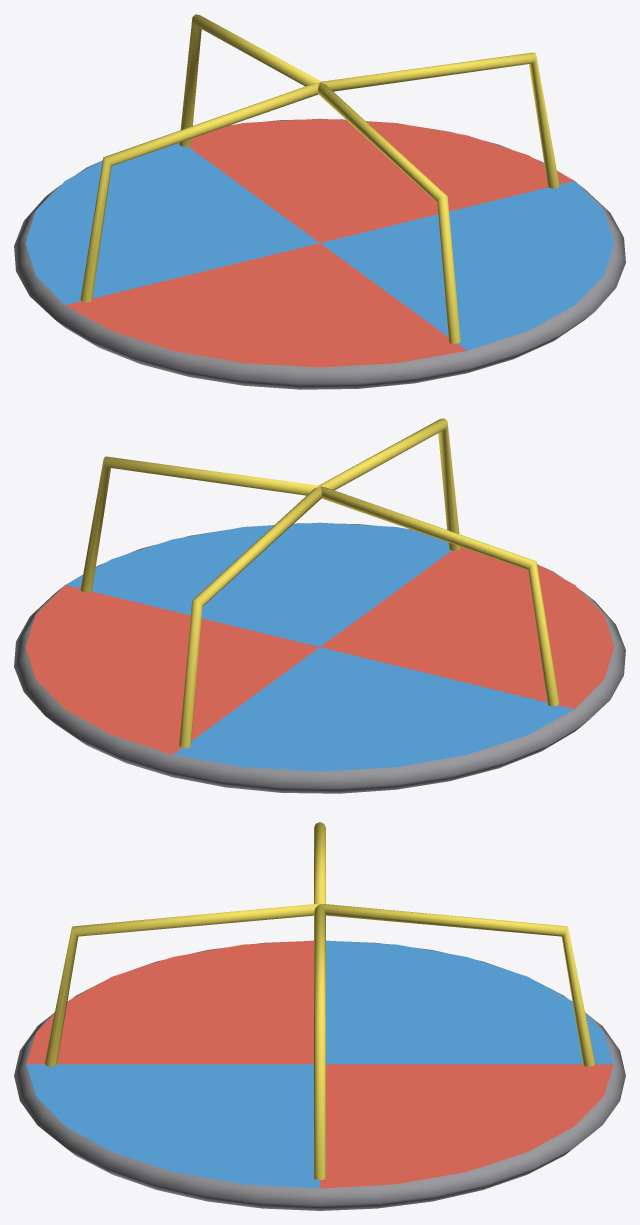
File: roundabout.glb
3 renders of one model, top to bottom at view 1: azimuth 30°, elevation 25°; view 2: azimuth 150°, elevation 25°; view 3: azimuth 270°, elevation 25°, orthographic.
Parts seen in each view (by area): view 1: roundabout; view 2: roundabout; view 3: roundabout.
Boxes of the visible parts, left/top/right/bottom form: roundabout: left=14, top=14, right=625, bottom=389; roundabout: left=14, top=418, right=625, bottom=793; roundabout: left=14, top=822, right=625, bottom=1210.
Size of the model in its own units: 2.5 by 1.02 by 2.5.
